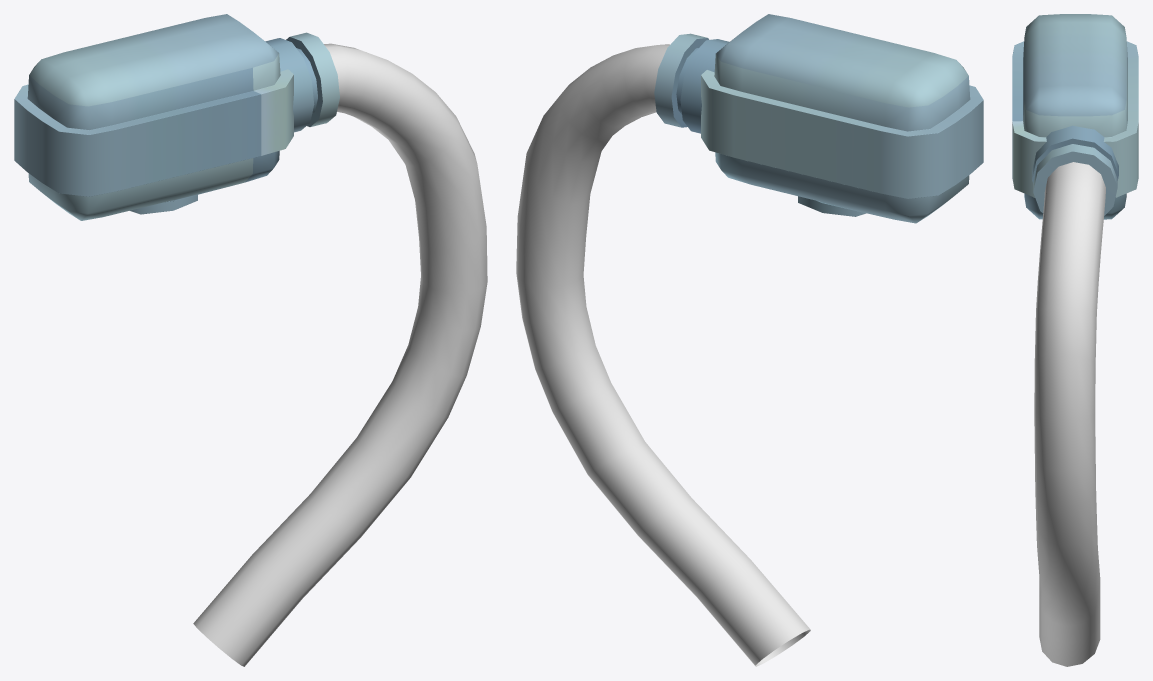
File: Bubblemachine.fbx
3 renders of one model, left to right at view 1: azimuth 30°, elevation 25°; view 2: azimuth 150°, elevation 25°; view 3: azimuth 270°, elevation 25°, orthographic. The views are drawn at different scales.
Parts seen in each view (by area): view 1: BezierCurve, Cube.025; view 2: BezierCurve, Cube.025; view 3: BezierCurve, Cube.025.
Part boxes in pixels (x1,y1,x2,y2): BezierCurve: [193, 32, 487, 666]; Cube.025: [14, 14, 293, 220]; BezierCurve: [516, 33, 810, 666]; Cube.025: [701, 14, 983, 223]; BezierCurve: [1032, 125, 1118, 666]; Cube.025: [1012, 14, 1138, 219].
Bounding box in the file's own units: 3741 × 5092 × 1012.
